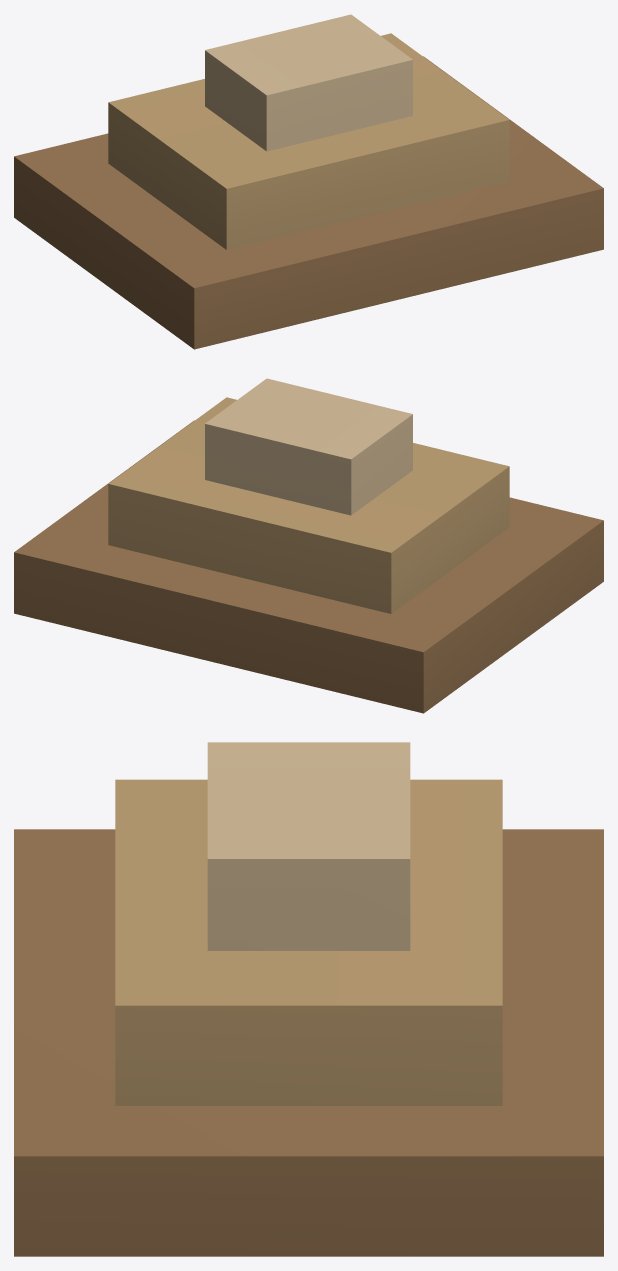
File: moche_altar_lod1.glb
The picture shows the model from 3 angles, top to bottom: view 1: azimuth 30°, elevation 25°; view 2: azimuth 150°, elevation 25°; view 3: azimuth 270°, elevation 25°; orthographic projection. The views are drawn at different scales.
Parts seen in each view (by area): view 1: GEO-Arch_moche_altar_LOD1; view 2: GEO-Arch_moche_altar_LOD1; view 3: GEO-Arch_moche_altar_LOD1.
Boxes of the visible parts, x1,y1,x2,y2 form: GEO-Arch_moche_altar_LOD1: [14, 14, 603, 349]; GEO-Arch_moche_altar_LOD1: [14, 378, 603, 713]; GEO-Arch_moche_altar_LOD1: [14, 742, 603, 1256].
Size of the model in its own units: 4.2 by 1.75 by 3.2.
